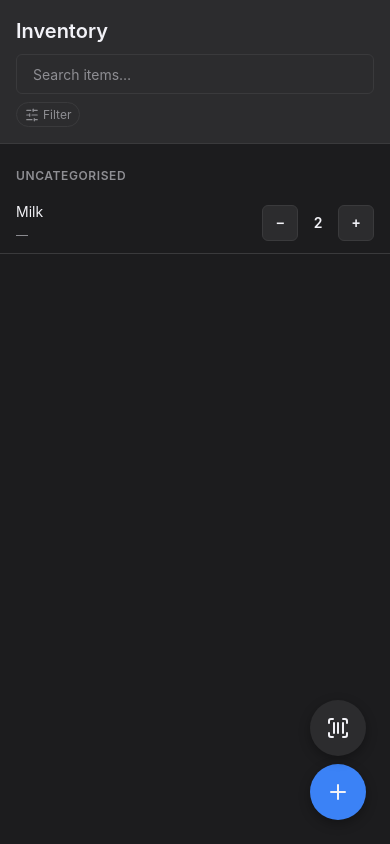
Test: Test 7: clicking an ItemRow opens the drawer in edit mode with item name pre-filled
Expected: the text "Milk" is shown, [16,203,43,220]
// The row is an li — find the nearest li ancestor
Click the button "Milk — − 2 +" at (30, 211), box [0,193,389,254]
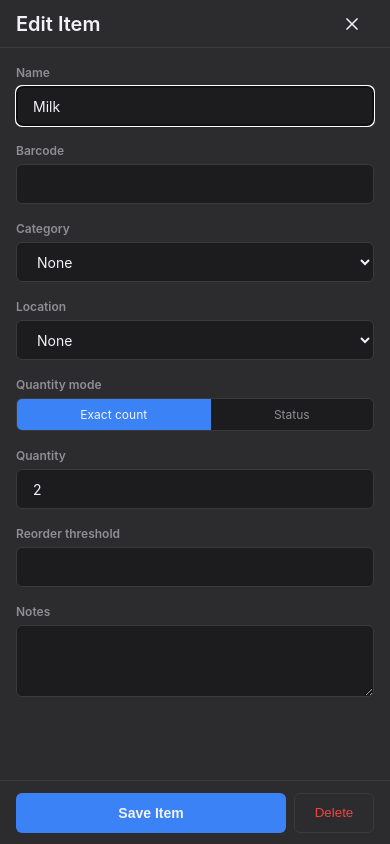
Result: the dialog is shown
Result: the field labelled "Name" holds "Milk" at [16,86,374,126]
